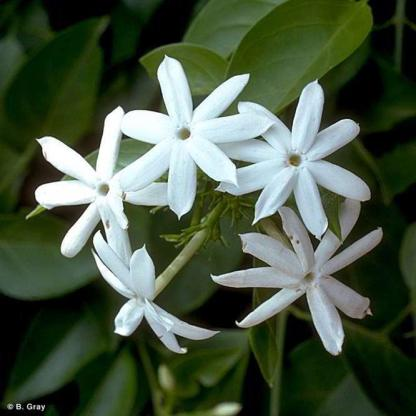Melati: (25, 120, 209, 362), (209, 93, 397, 323), (108, 66, 256, 177)
